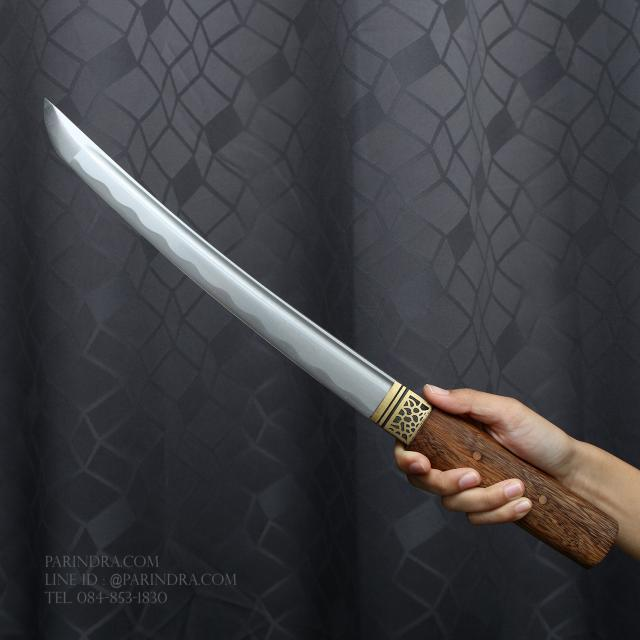short sword: (28, 80, 640, 579)
